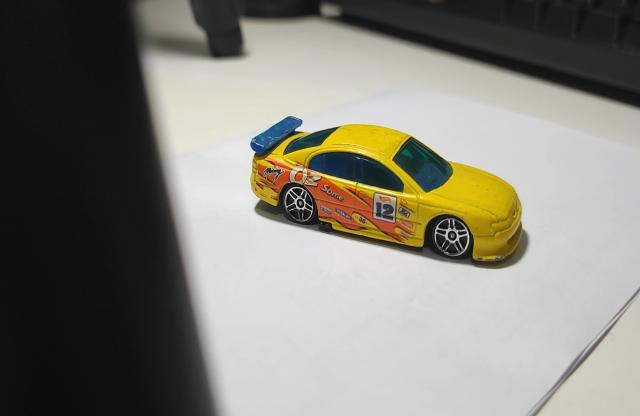02_OZSOME: (250, 118, 530, 270)
